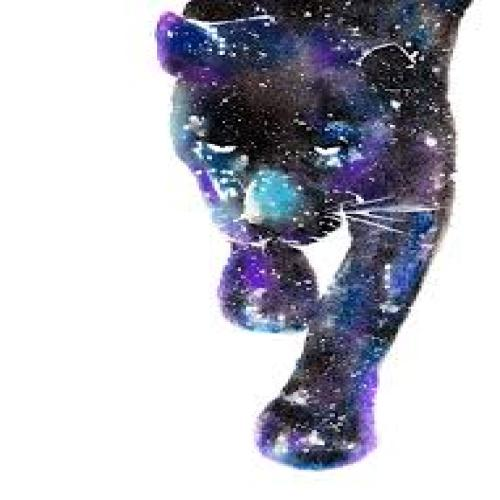panther-endangered: (156, 7, 460, 466)
